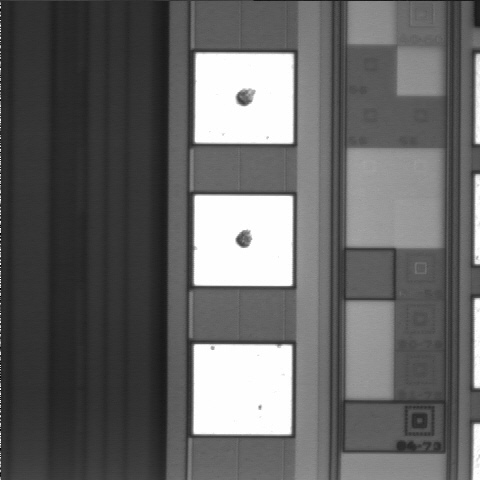pad: (194, 195, 293, 286), (195, 53, 293, 144), (194, 344, 292, 434)
